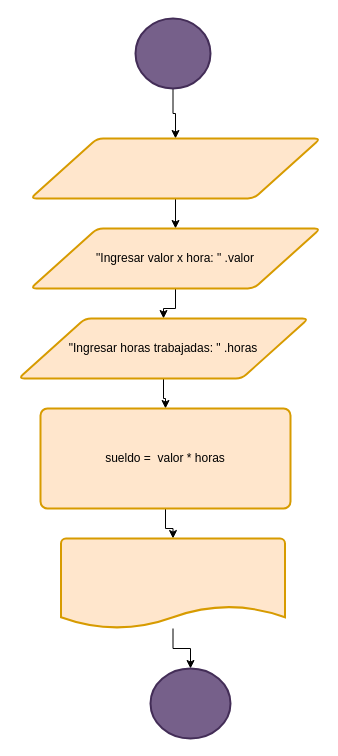
This 338x756 diagram has some shape labels left out. The shapes that lost their labels are listed below. From the top down, each one's centre as x and y in pixels, then its label:
the point at 175,168: "Nombre del empleado: " .empleado
the point at 173,583: "El sueldo del emplado " .empleado "es de: " .sueldo
